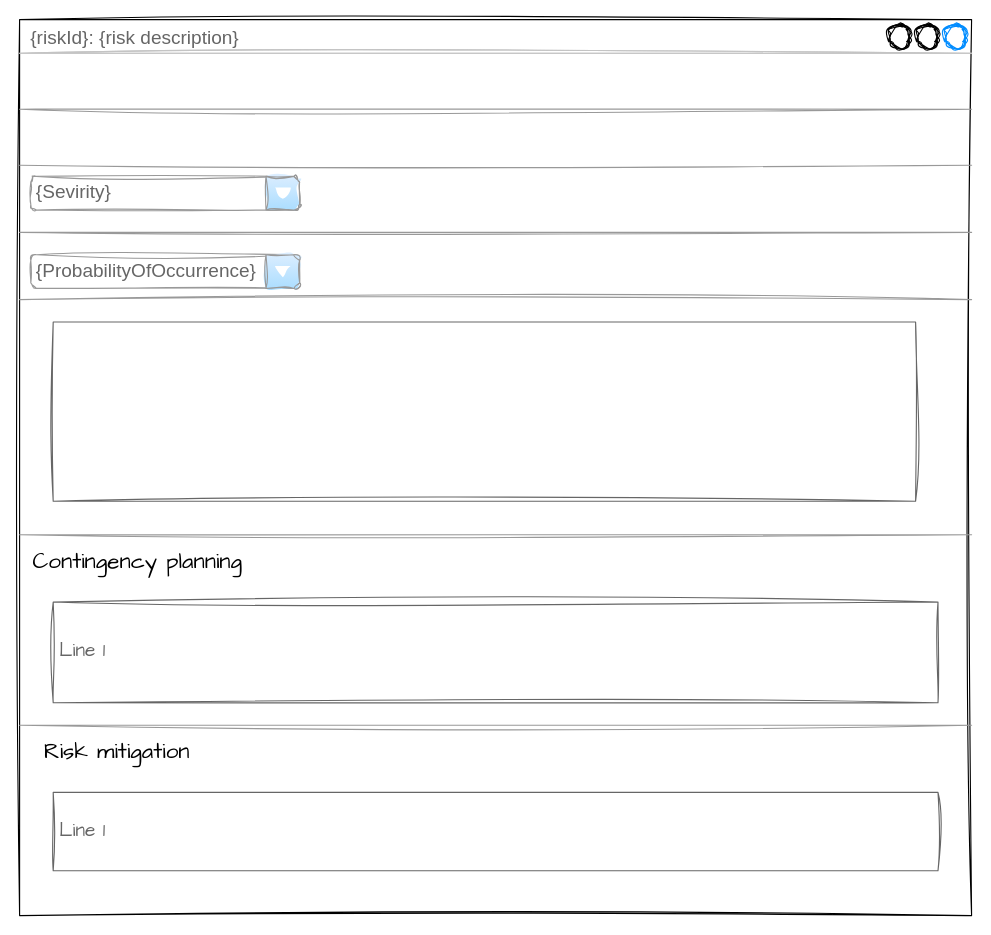
The diagram is 991 pixels wide and 935 high, and some of its shapes have lost their labels. Each missing label, with the box of its shape:
{Details of the risk or technical depts}: (52, 321, 916, 501)
{headline/risk description}: (18, 108, 524, 165)
